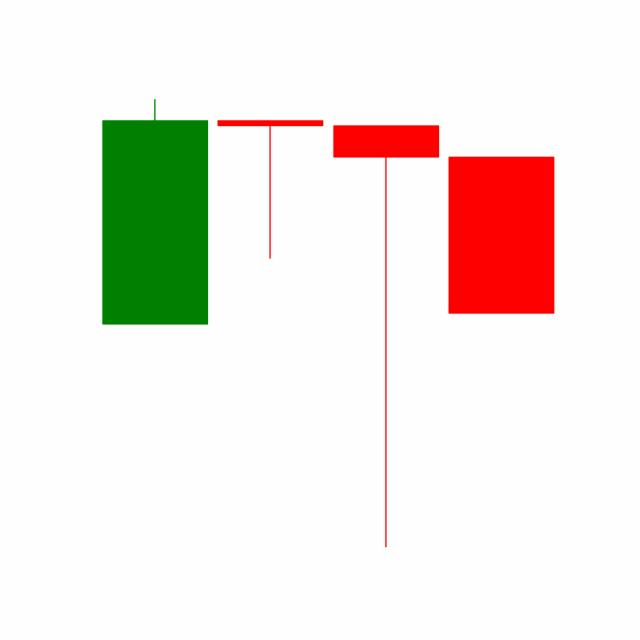Marubozu: (443, 154, 559, 315)
